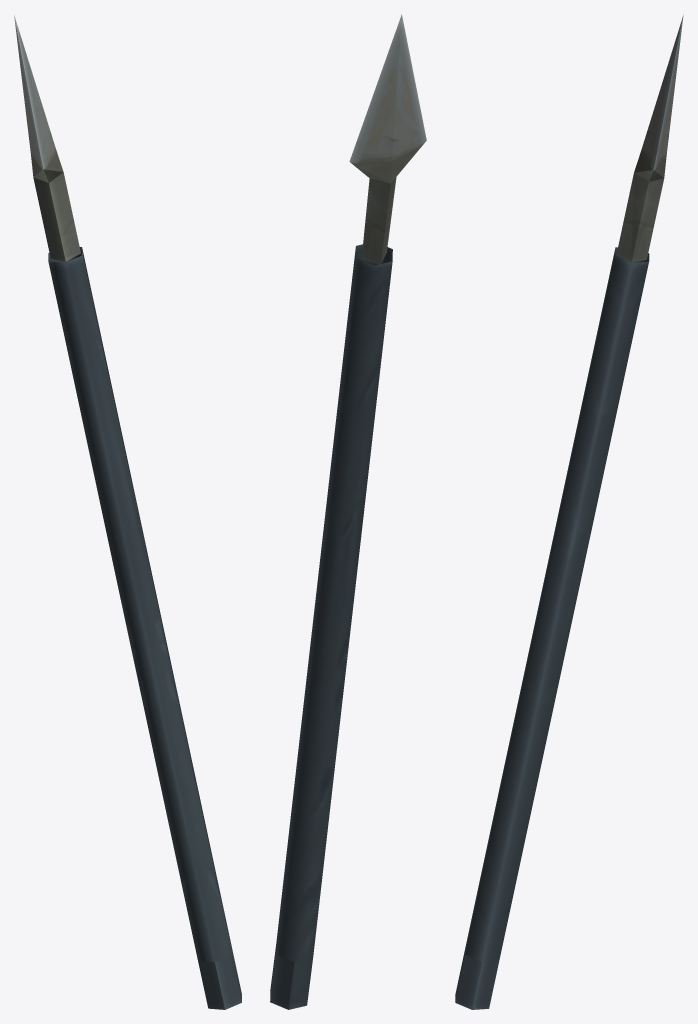
The model's file is wuqi03.fbx.
3 renders of one model, left to right at view 1: azimuth 90°, elevation 25°; view 2: azimuth 210°, elevation 25°; view 3: azimuth 270°, elevation 25°, orthographic. The views are drawn at different scales.
Parts seen in each view (by area): view 1: wuqi03; view 2: wuqi03; view 3: wuqi03.
Boxes of the visible parts, x1,y1,x2,y2 form: wuqi03: [14, 15, 241, 1009]; wuqi03: [270, 14, 426, 1009]; wuqi03: [455, 14, 683, 1009].
Size of the model in its own units: 3.89 by 51.61 by 10.77.
Materials: 1 (1 with a texture image).
